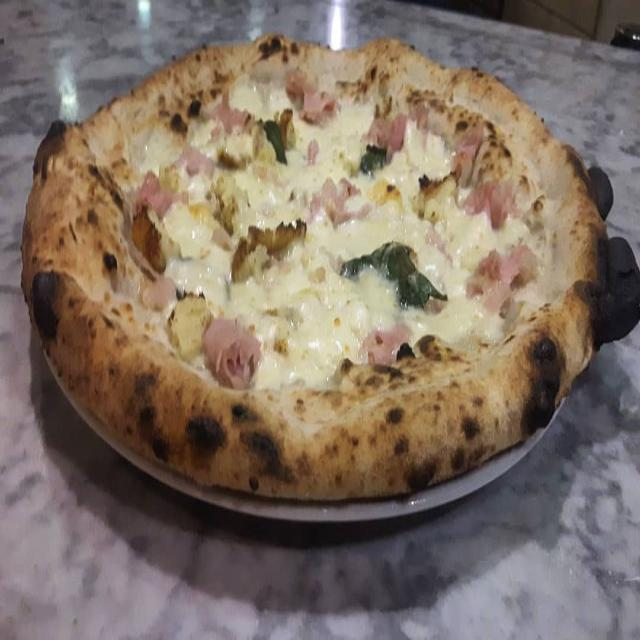basil: (338, 235, 449, 314), (258, 110, 290, 169), (358, 140, 387, 180)
pizza: (18, 28, 640, 508)
